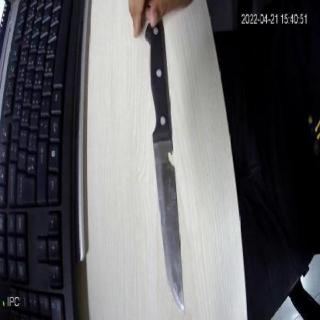knife: (140, 18, 198, 320)
